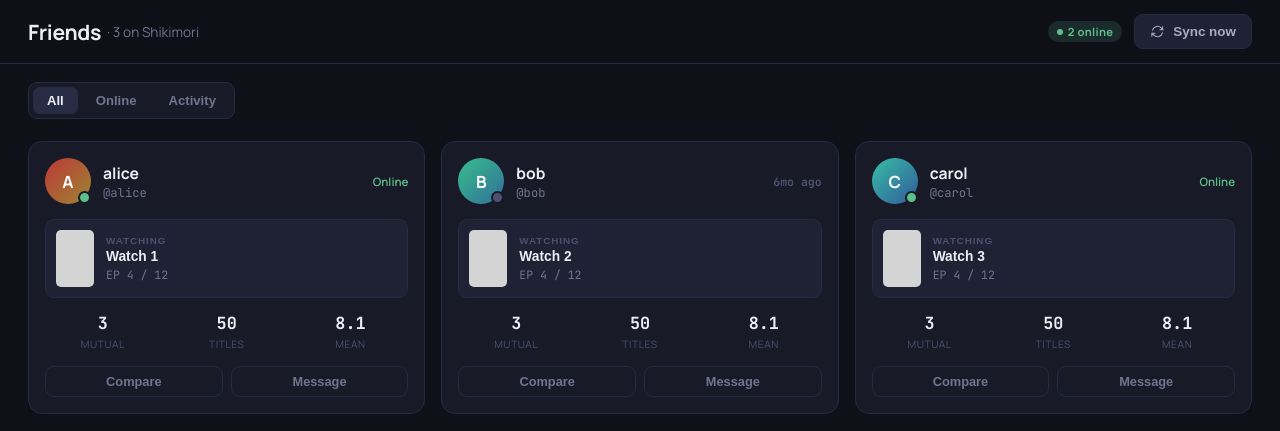
FriendsView › Activity tab lazily loads and renders the feed
The image size is (1280, 431).
Click the button "Activity" at (192, 100), box [155, 87, 230, 114]
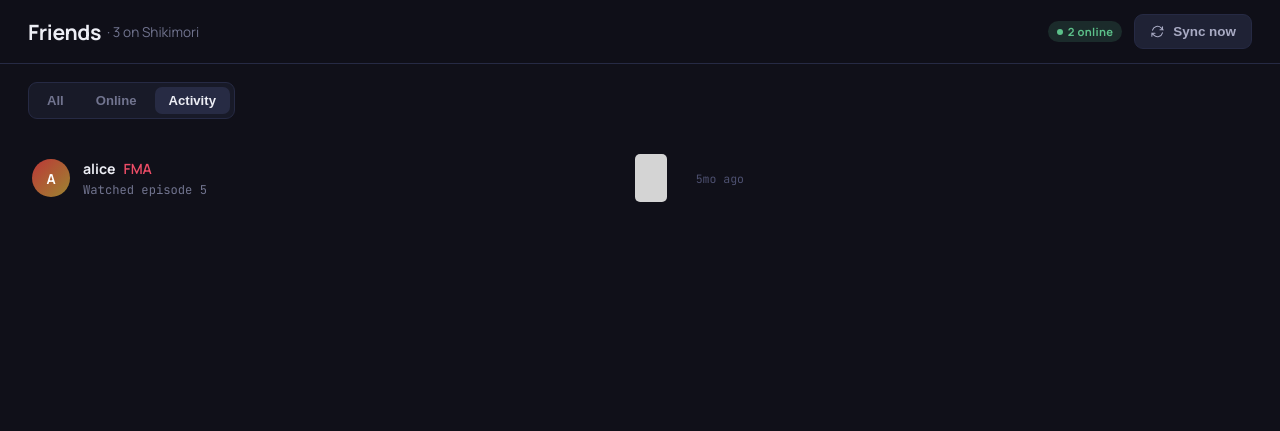
expect the text "alice" is shown: met, box [83, 158, 115, 178]
expect the number of elements with class "feed-row" is 1: met, box [28, 141, 748, 215]
